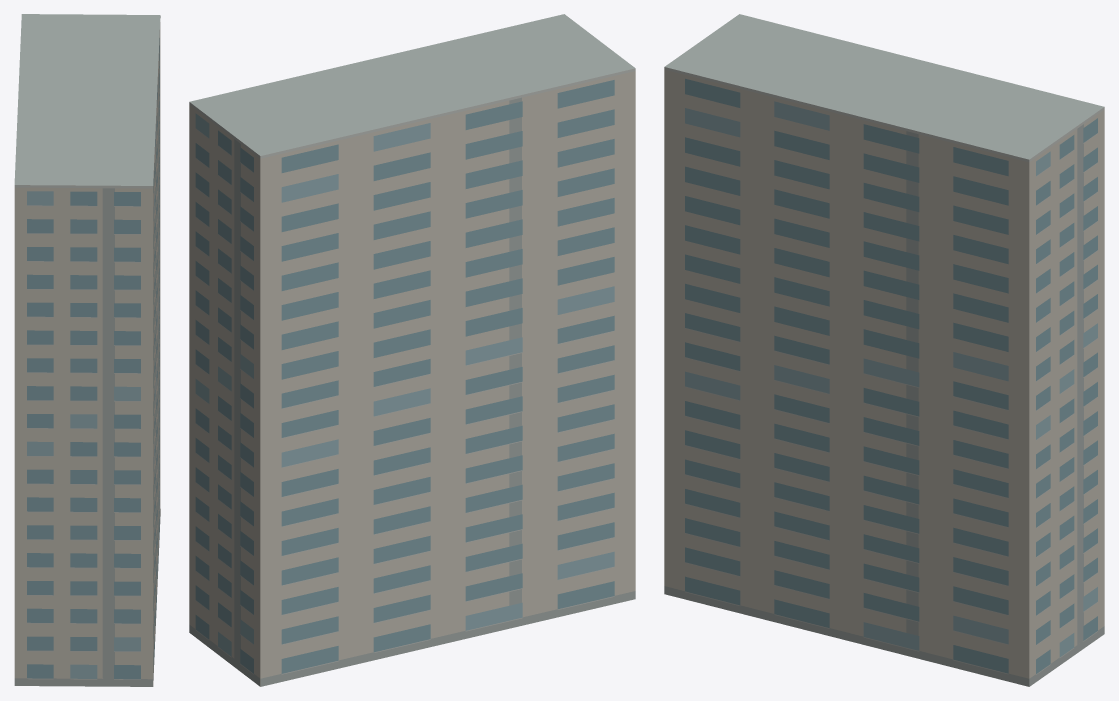
File: residential-9284e54a-2f34-4603-80f5-364a0db967ff.glb
3 renders of one model, left to right at view 1: azimuth 30°, elevation 25°; view 2: azimuth 150°, elevation 25°; view 3: azimuth 270°, elevation 25°, orthographic. The views are drawn at different scales.
Visible parts, largest first — view 1: residential-9284e54a-2f34-4603-80f5-364a0db967ff.tmp; view 2: residential-9284e54a-2f34-4603-80f5-364a0db967ff.tmp; view 3: residential-9284e54a-2f34-4603-80f5-364a0db967ff.tmp.
Part boxes in pixels (x1=…): residential-9284e54a-2f34-4603-80f5-364a0db967ff.tmp: x1=14, y1=14, x2=160, y2=686; residential-9284e54a-2f34-4603-80f5-364a0db967ff.tmp: x1=189, y1=14, x2=635, y2=686; residential-9284e54a-2f34-4603-80f5-364a0db967ff.tmp: x1=664, y1=14, x2=1104, y2=686.
Size of the model in its own units: 28.45 by 48 by 36.33.
